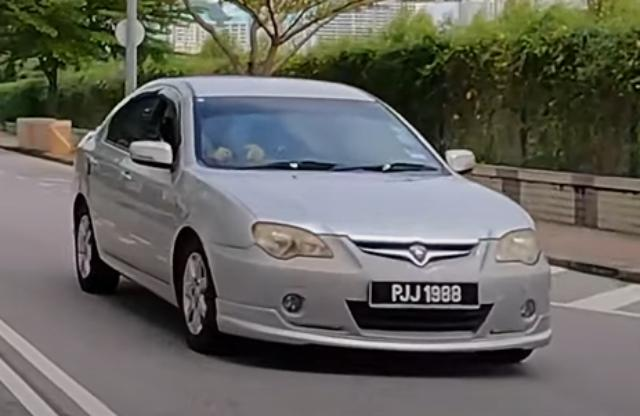License_Plate: (368, 280, 482, 311)
car: (71, 74, 554, 364)
